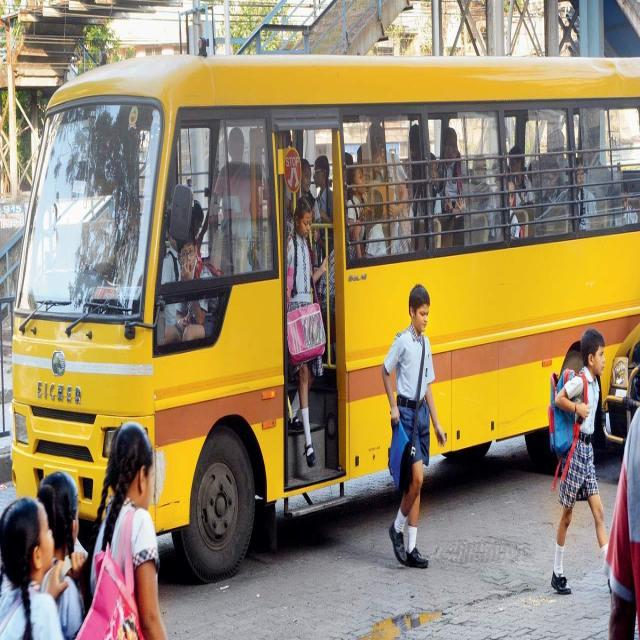bus: (11, 56, 640, 580)
